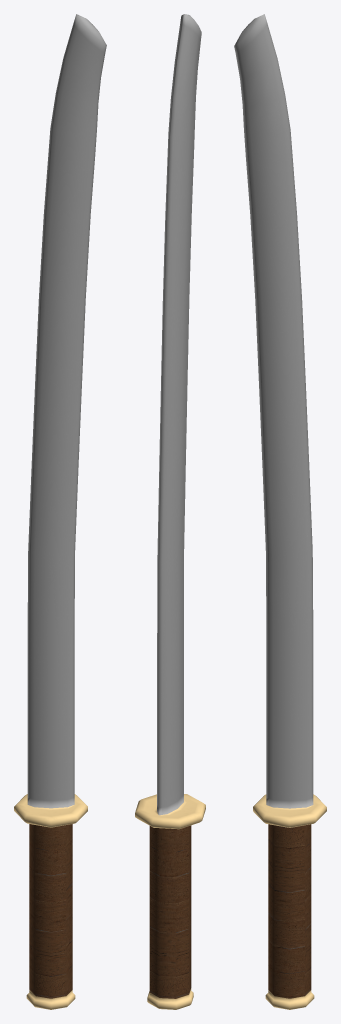
File: Katana_WoodenHilt.fbx
The picture shows the model from 3 angles, left to right: view 1: azimuth 90°, elevation 25°; view 2: azimuth 150°, elevation 25°; view 3: azimuth 270°, elevation 25°; orthographic projection.
Visible parts, largest first — view 1: Katana; view 2: Katana; view 3: Katana.
Boxes of the visible parts, x1,y1,x2,y2 form: Katana: (14, 14, 106, 1009); Katana: (135, 14, 205, 1009); Katana: (234, 14, 326, 1009).
Bounding box in the file's own units: 343 × 5040 × 429.
Materials: 3 (3 with a texture image).
